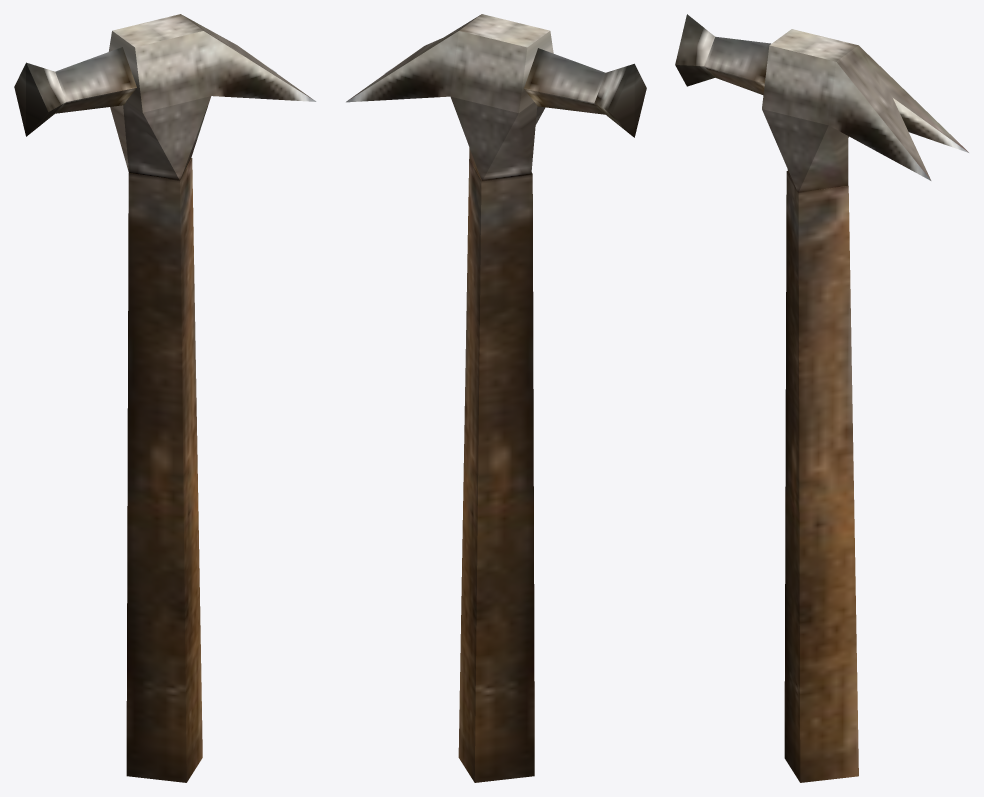
Rendered from Hammer.obj.
The picture shows the model from 3 angles, left to right: view 1: azimuth 30°, elevation 25°; view 2: azimuth 150°, elevation 25°; view 3: azimuth 330°, elevation 25°; orthographic projection. The views are drawn at different scales.
Visible parts, largest first — view 1: Hammer; view 2: Hammer; view 3: Hammer.
Part boxes in pixels (left/top/right/bottom): Hammer: left=14, top=14, right=316, bottom=782; Hammer: left=346, top=14, right=646, bottom=782; Hammer: left=675, top=14, right=968, bottom=782.
Bounding box in the file's own units: 1.21 × 3.17 × 0.3421.
1 material, 1 textured.
